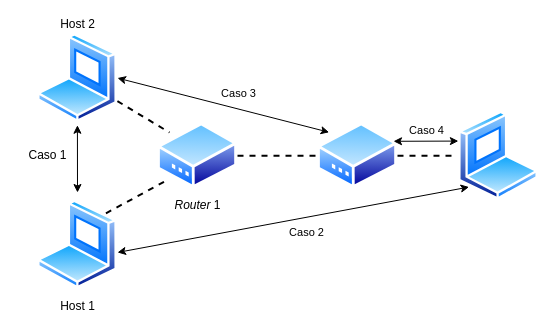
Some shapes in this 554 by 331 pixel diagram are drawn without their labels. The shapes that lost their labels are listed below. From the top down, each one's centre as x and y in pixels, then its label:
[357,155]: Router 2
[497,155]: Host 3
